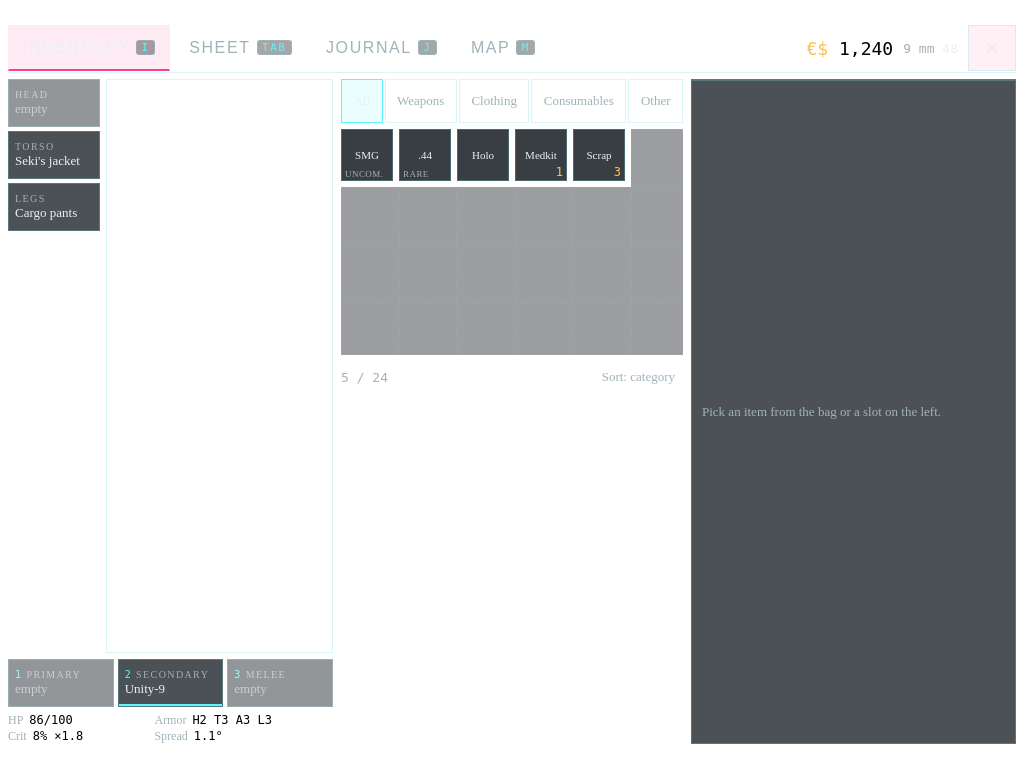
inventory tab › selects on a tap and compares with the slot: the revolver beats the pistol on damage
Click the button with test id "item-cell" showing ".44 rare" at (425, 155), box [399,129,451,181]
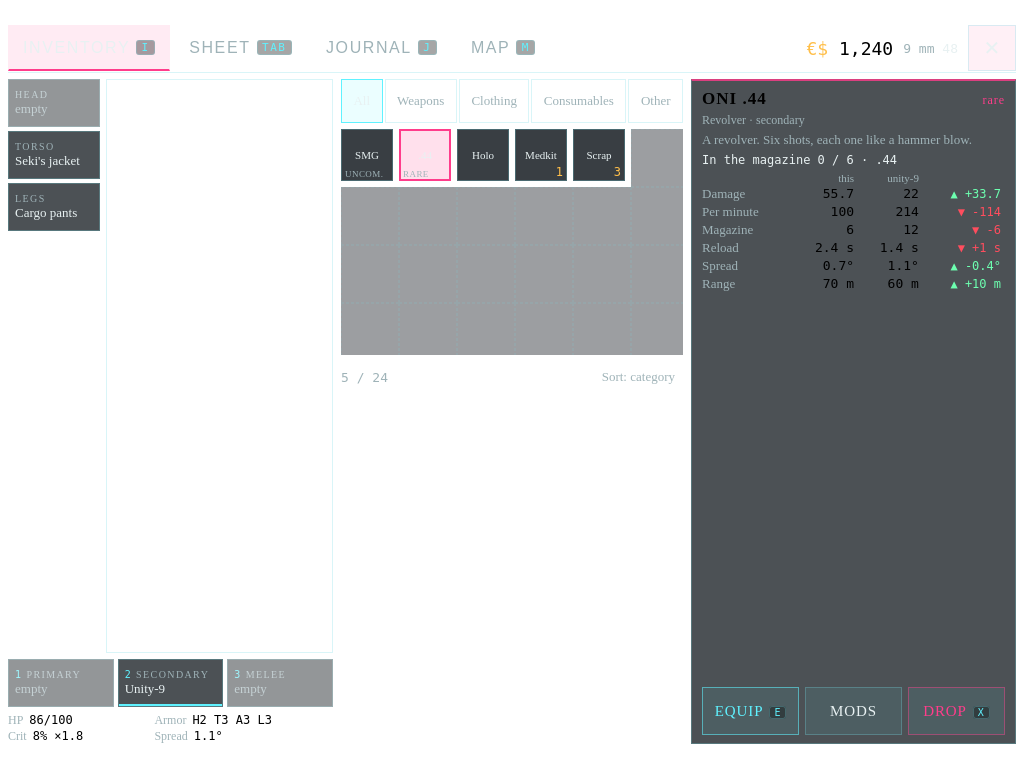
Result: the element with test id "item-detail" shows "Oni .44" at [702,89,767,108]
Result: the element with test id "item-detail" shows "rare" at [982,93,1005,107]
Result: the text with test id "delta-damage" reads "▲ +33.7" at [950,187,1001,201]
Click the button with test id "item-cell" showing "SMG uncom." at (367, 155), box [341,129,393,181]
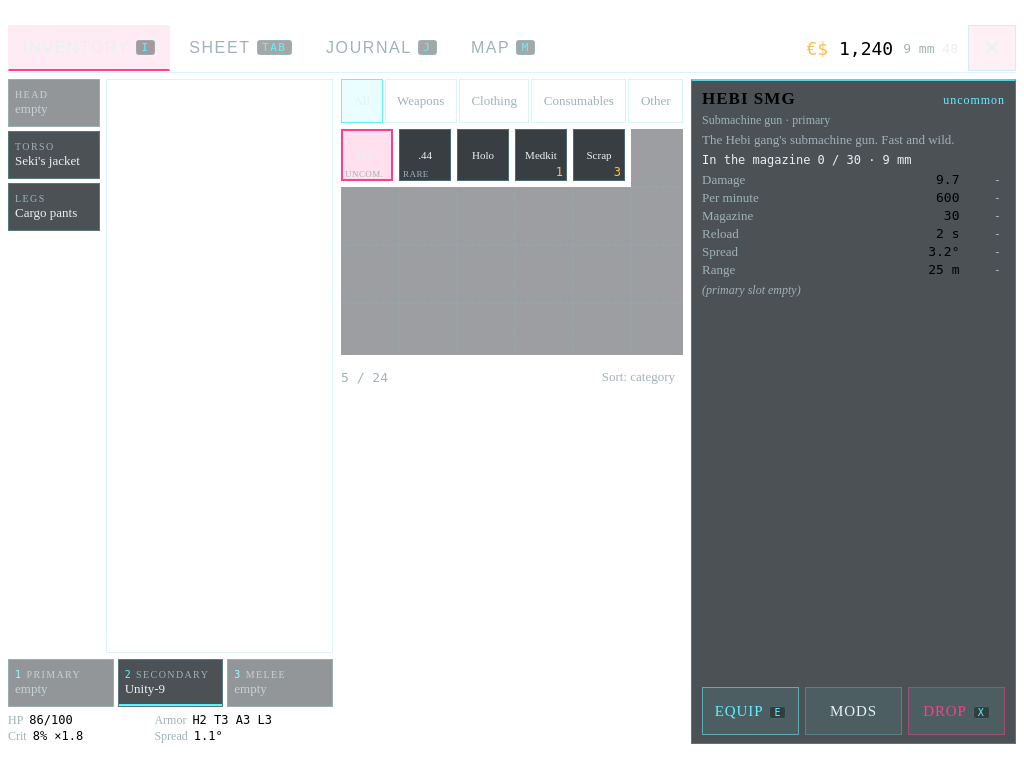
Result: the element with test id "item-detail" shows "(primary slot empty)" at [702,283,801,297]
